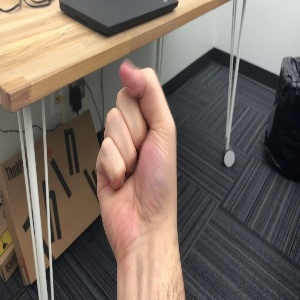hand: (96, 61, 177, 230)
